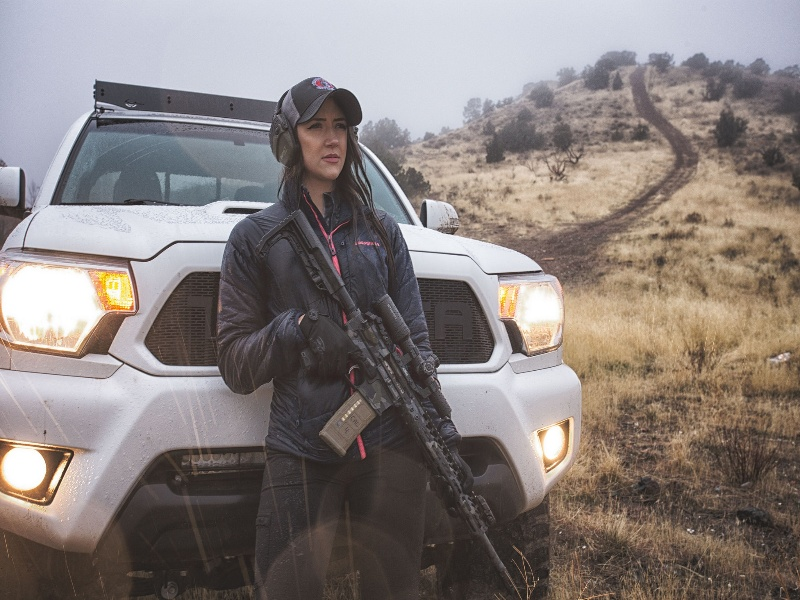car: (1, 78, 584, 600)
person: (214, 76, 472, 600)
weapon: (253, 207, 521, 600)
